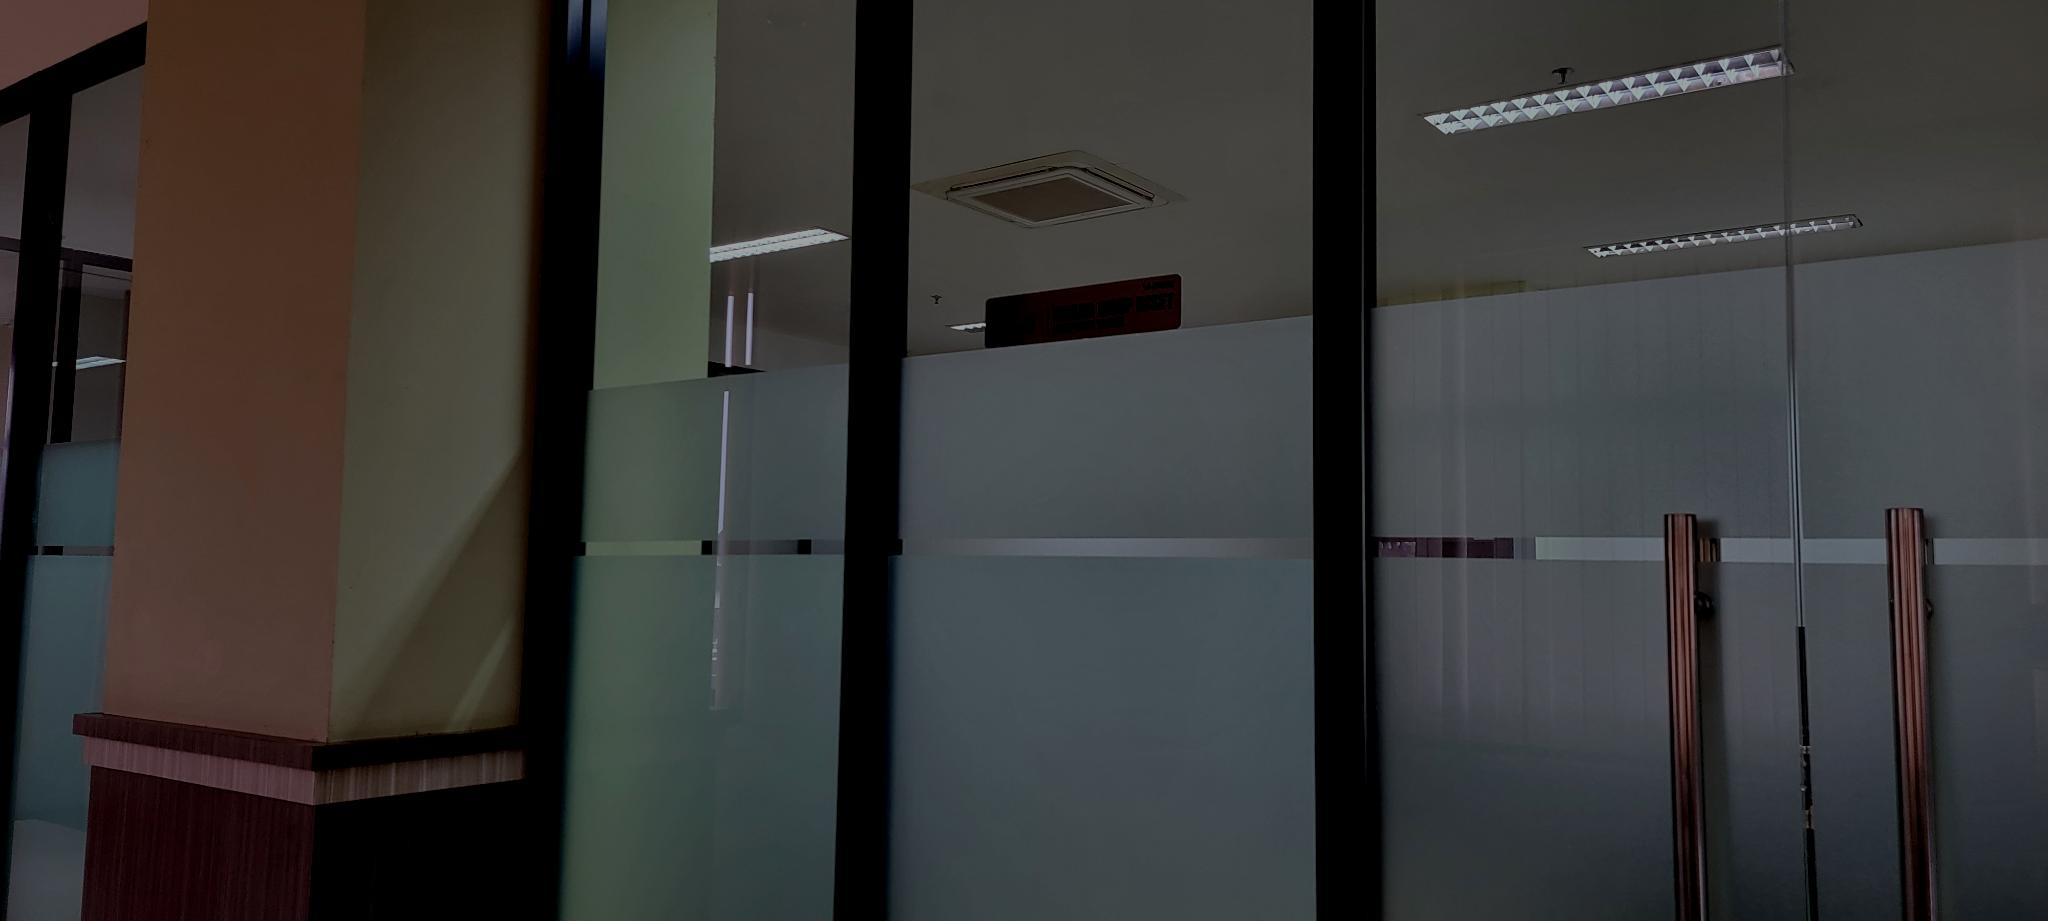plate: (984, 273, 1181, 350)
